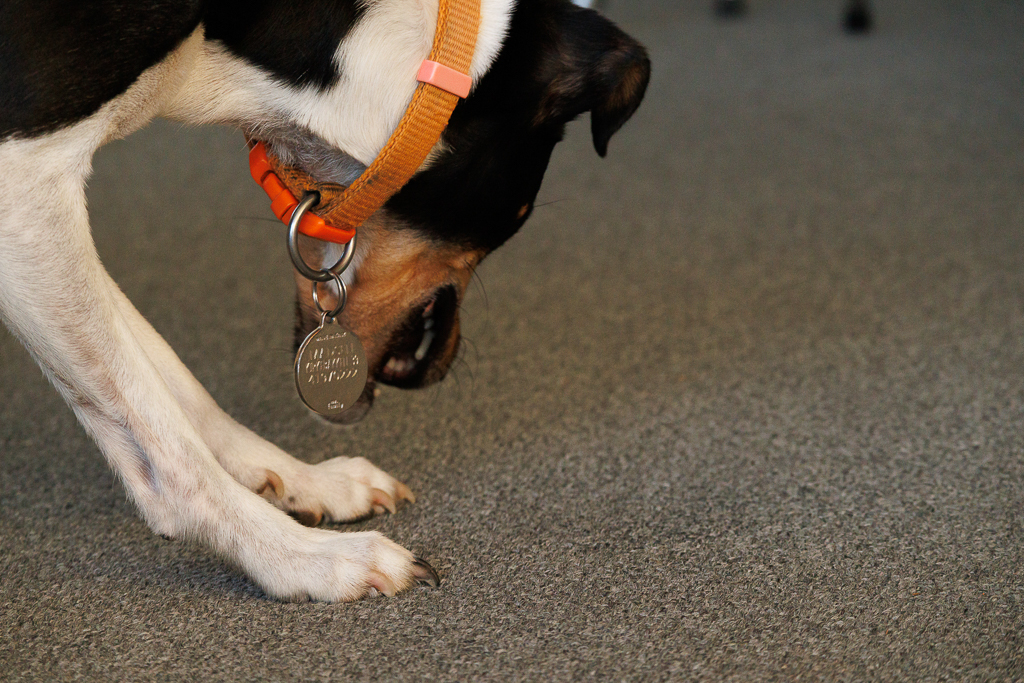Dog: (0, 0, 663, 613)
